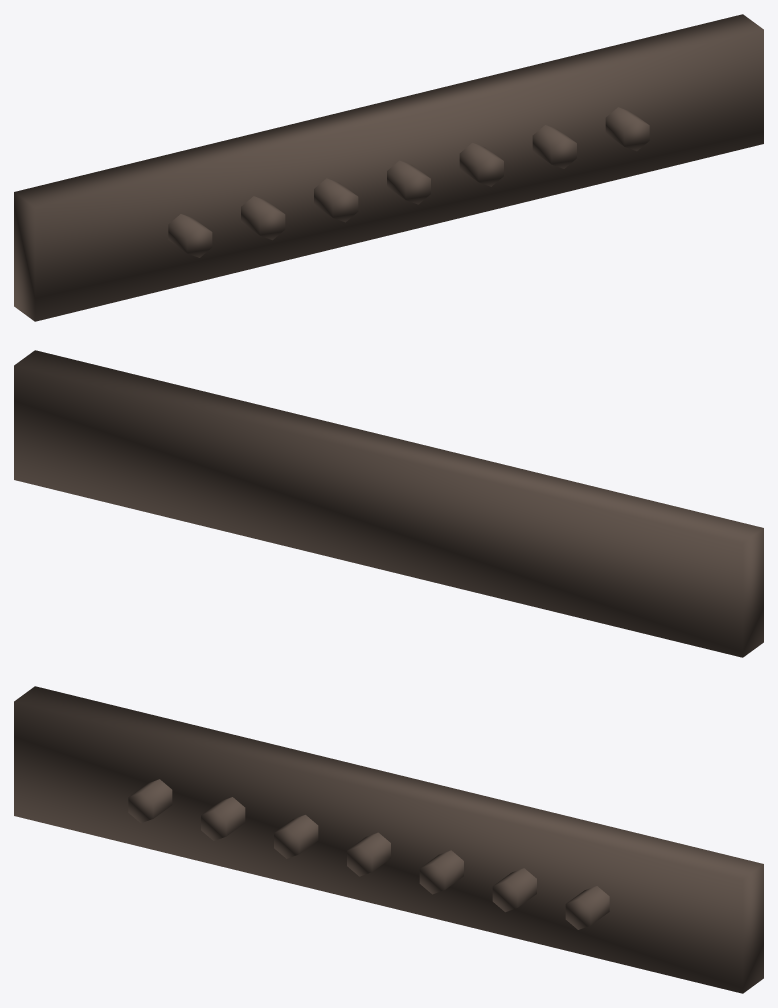
Rendered from lit_rack.glb.
3 renders of one model, top to bottom at view 1: azimuth 30°, elevation 25°; view 2: azimuth 150°, elevation 25°; view 3: azimuth 330°, elevation 25°, orthographic.
Parts seen in each view (by area): view 1: weaponRack_02; view 2: weaponRack_02; view 3: weaponRack_02.
Boxes of the visible parts, left/top/right/bottom form: weaponRack_02: left=14, top=14, right=763, bottom=321; weaponRack_02: left=14, top=350, right=763, bottom=657; weaponRack_02: left=14, top=686, right=763, bottom=993.
Bounding box in the file's own units: 1.7 × 0.2551 × 0.1618.
